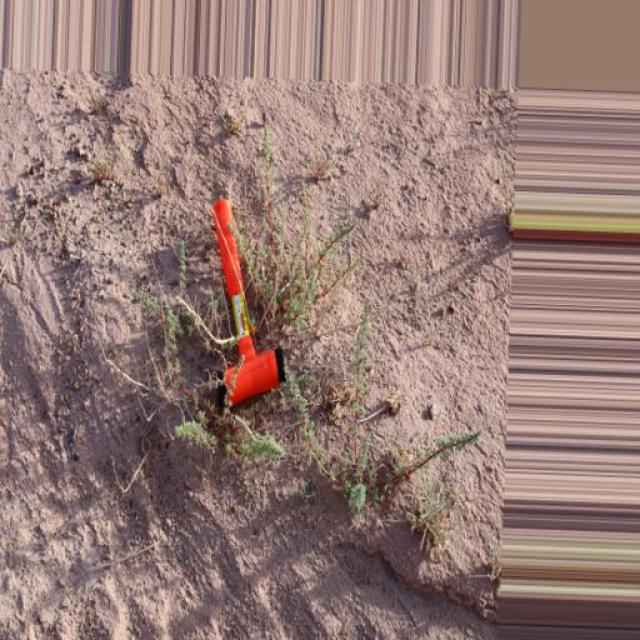mallet: (206, 195, 285, 407)
